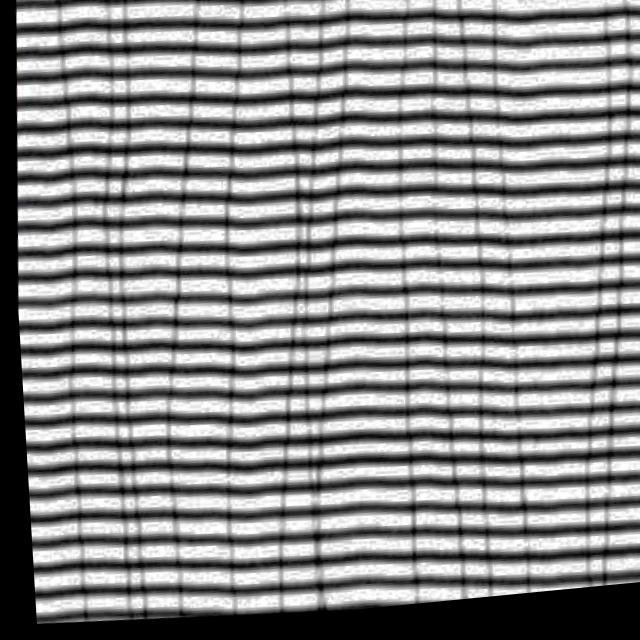Stitch: (232, 128, 380, 623)
